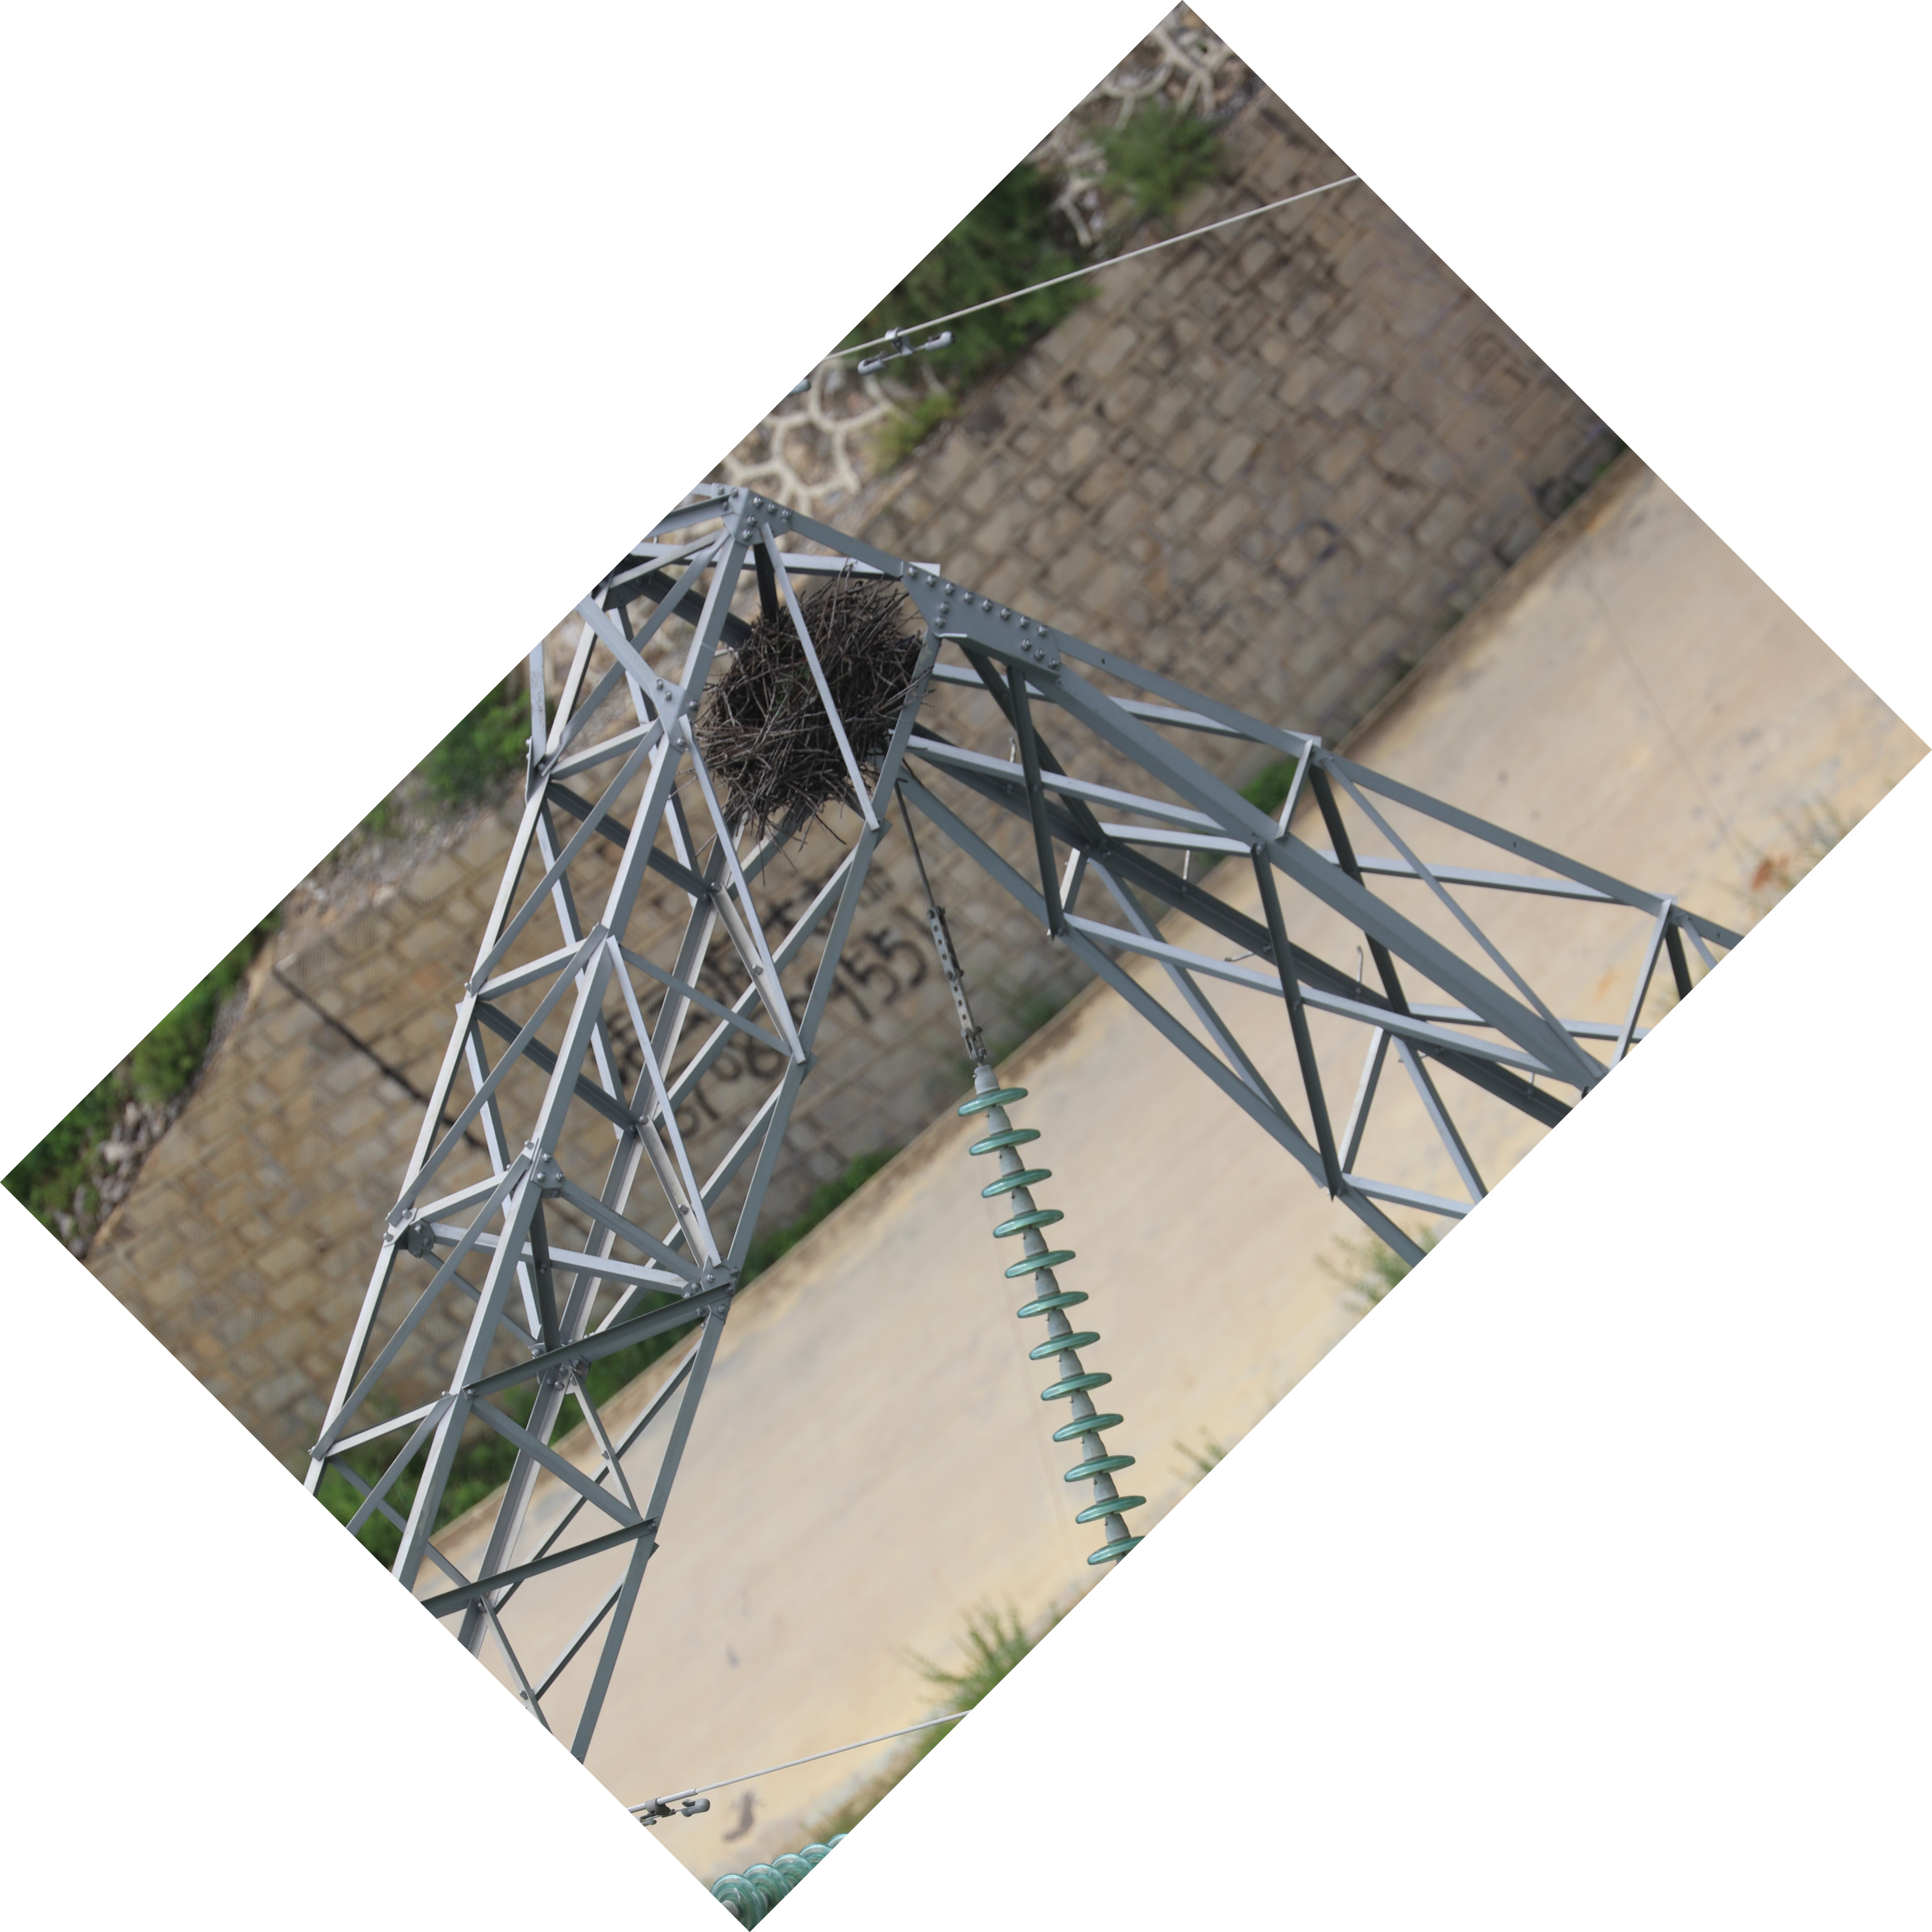niaowo: (671, 550, 968, 835)
